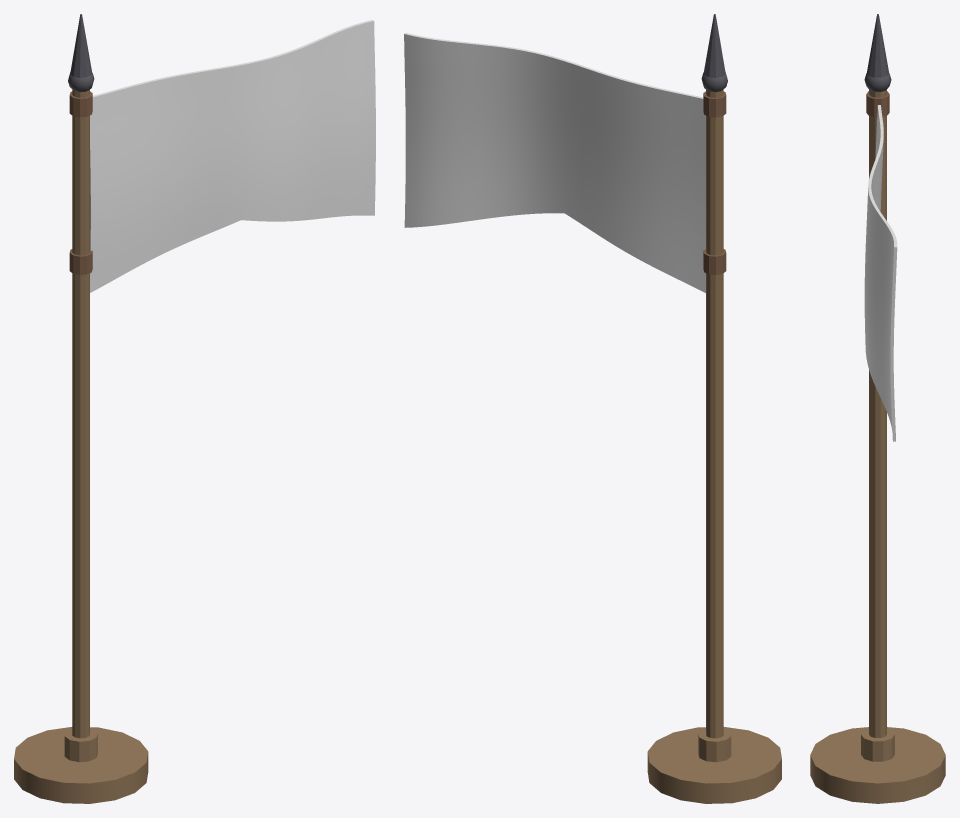
Rendered from flag_standard.glb.
The picture shows the model from 3 angles, left to right: view 1: azimuth 30°, elevation 25°; view 2: azimuth 150°, elevation 25°; view 3: azimuth 270°, elevation 25°; orthographic projection.
Parts seen in each view (by area): view 1: flag_standard; view 2: flag_standard; view 3: flag_standard.
Part boxes in pixels (bbox=[...]): flag_standard: bbox=[14, 14, 375, 803]; flag_standard: bbox=[404, 14, 781, 803]; flag_standard: bbox=[810, 14, 945, 803].
Bounding box in the file's own units: 1.84 × 3.72 × 0.6.
